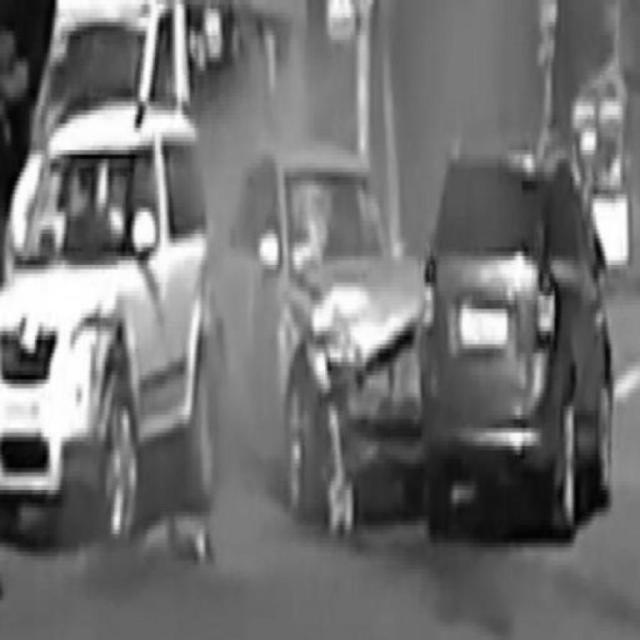accident: (241, 145, 617, 542)
vehicle: (0, 101, 216, 541)
